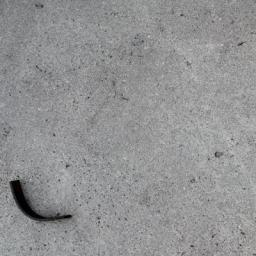FOD: (8, 178, 75, 224)
